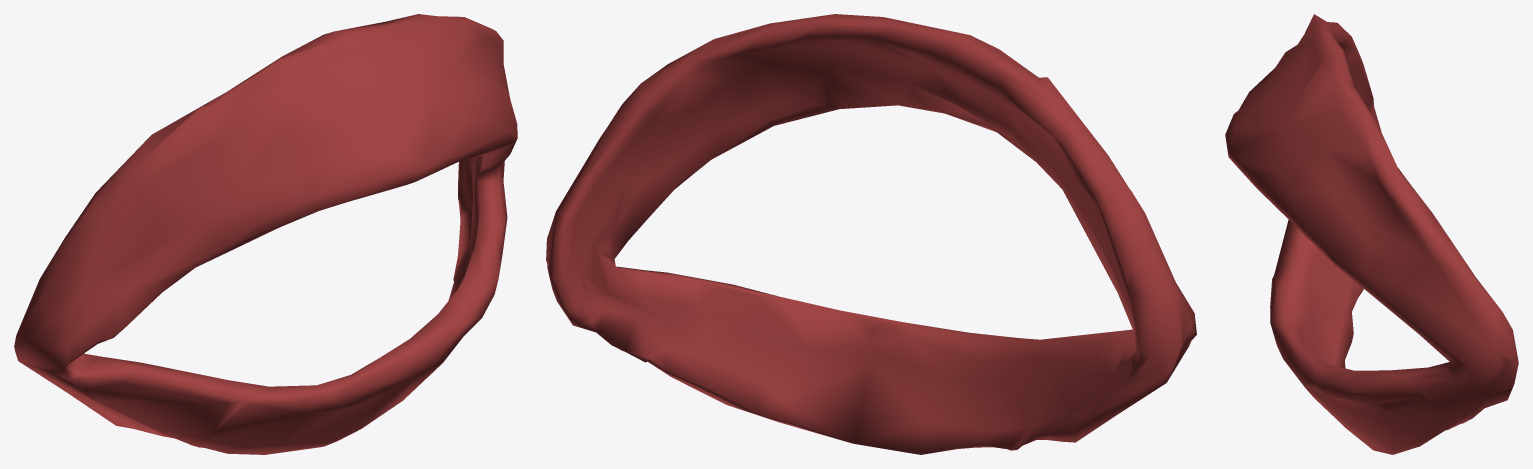
Rendered from palpebral-part-of-orbicularis-oculi-l.glb.
3 renders of one model, left to right at view 1: azimuth 30°, elevation 25°; view 2: azimuth 150°, elevation 25°; view 3: azimuth 270°, elevation 25°, orthographic. The views are drawn at different scales.
Visible parts, largest first — view 1: Palpebral part of orbicularis oculi.l; view 2: Palpebral part of orbicularis oculi.l; view 3: Palpebral part of orbicularis oculi.l.
Part boxes in pixels (<box>): Palpebral part of orbicularis oculi.l: <box>14,14,517,454</box>; Palpebral part of orbicularis oculi.l: <box>546,14,1196,454</box>; Palpebral part of orbicularis oculi.l: <box>1225,14,1518,454</box>.
Size of the model in its own units: 0.0336 by 0.0242 by 0.0173.
